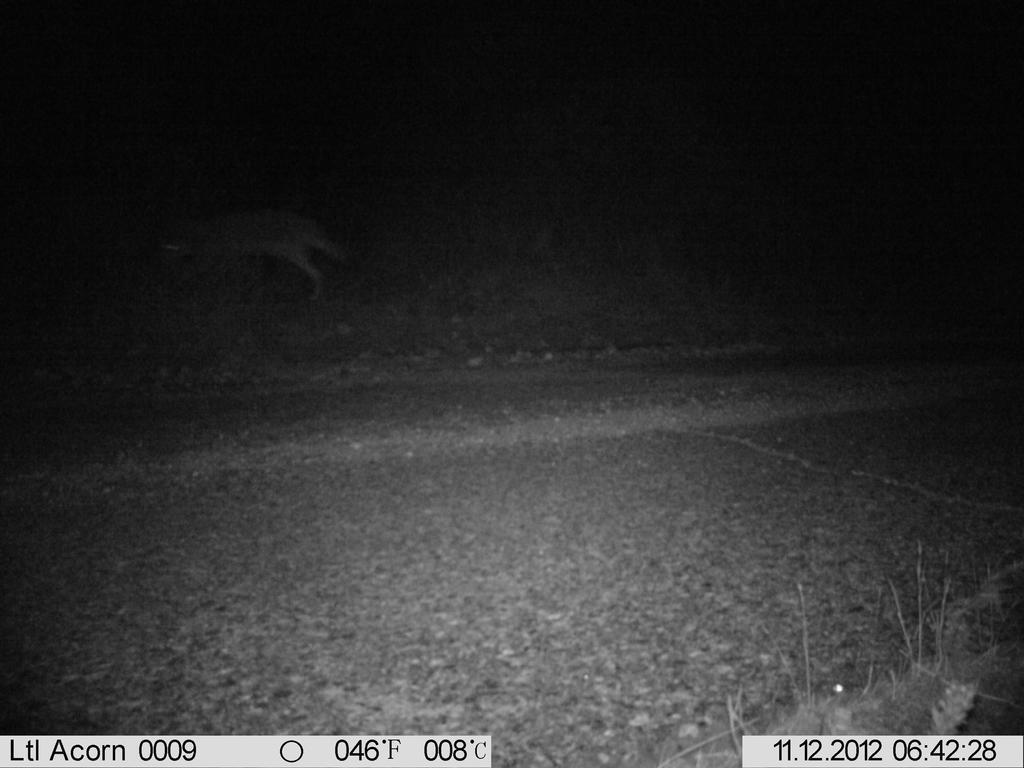coyote: (133, 191, 356, 309)
